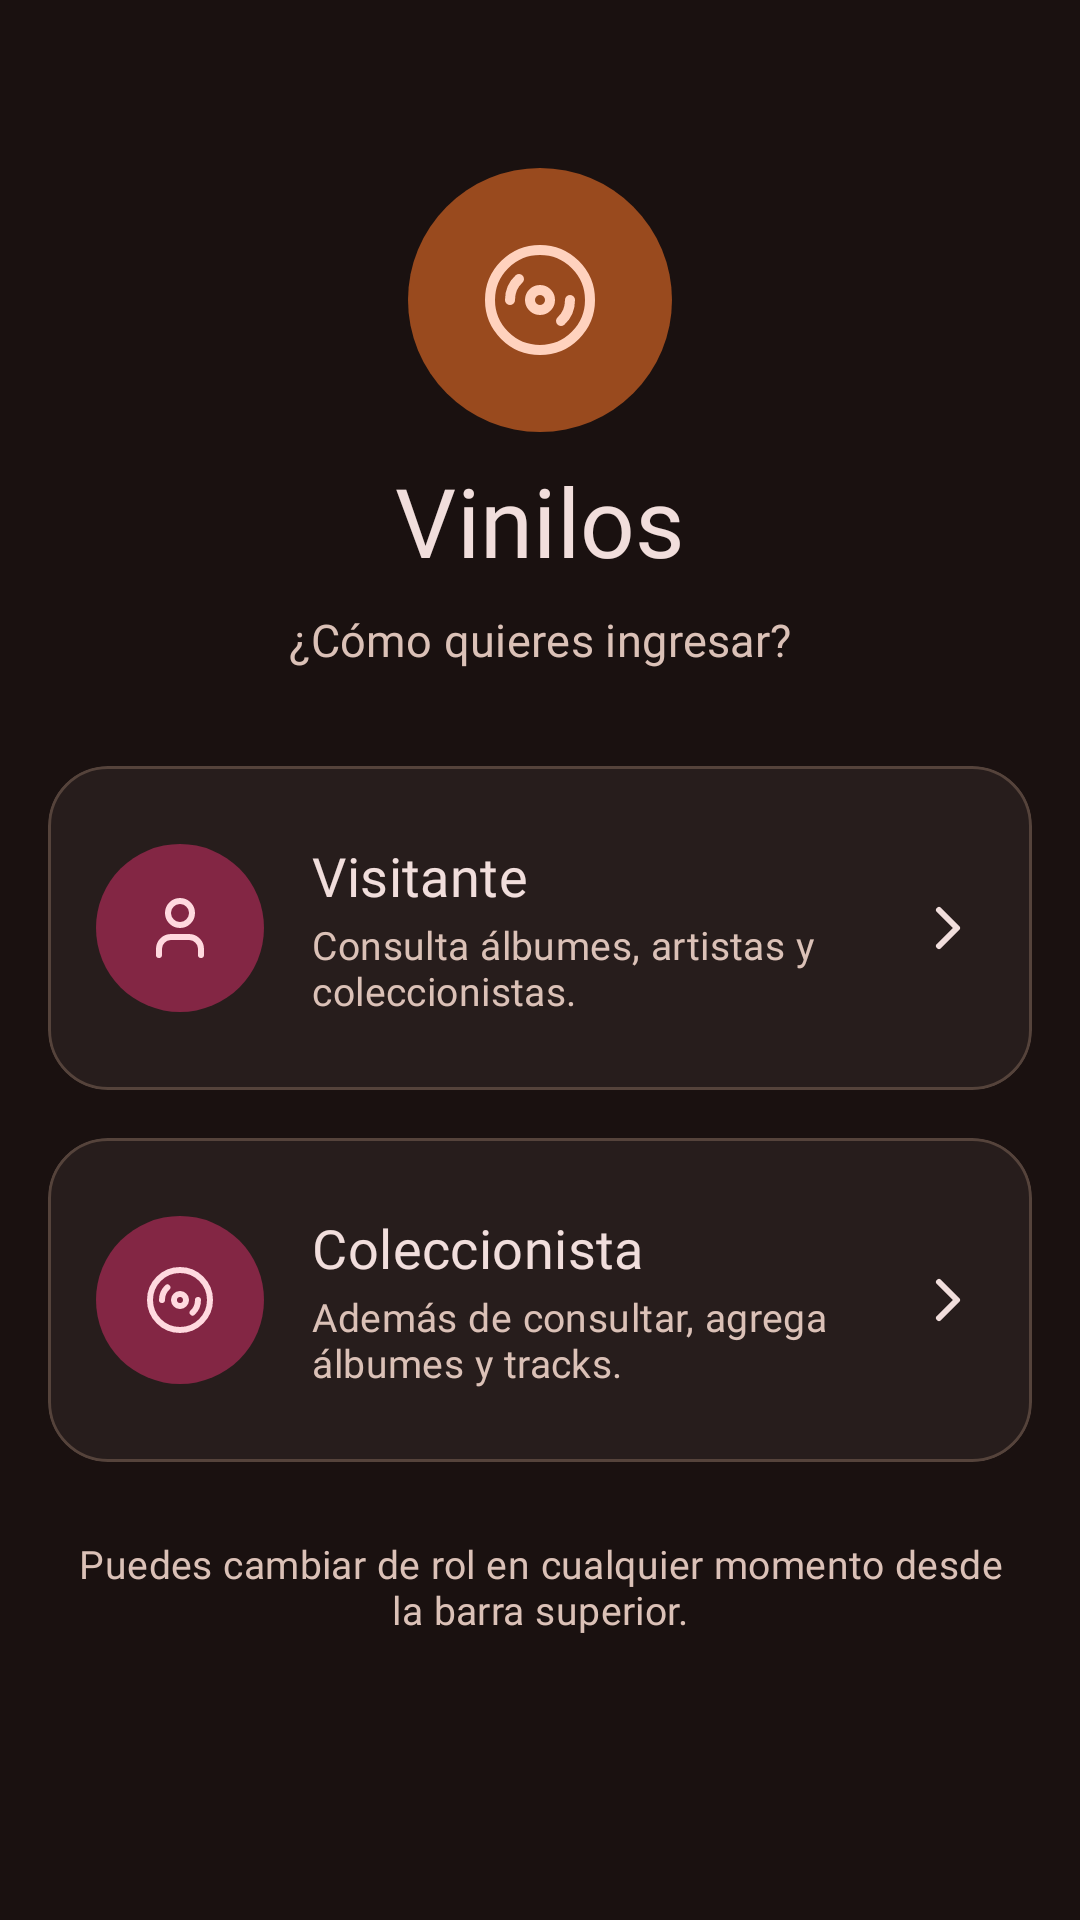

Icons on this 1080x1920 Android screen, each with the point to tap as [x,y]:
album: [540,300], [180,1300]
chevron right: [948,928], [948,1300]
visitor: [180,928]
